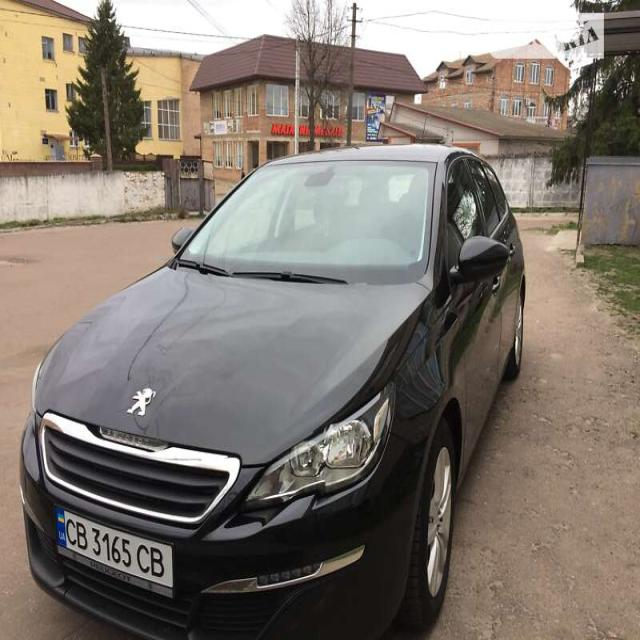plate: (52, 506, 174, 602)
